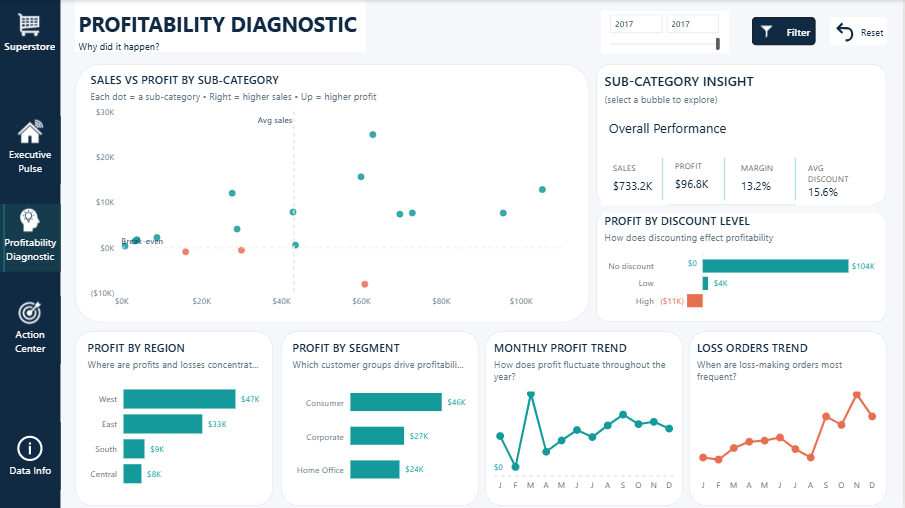

The dashboard page shown, as its layout file describes it:
{"tool":"powerbi","page":{"name":"Profitability Diagnostic","canvas":[1280,720],"ordinal":1},"visuals":[{"type":"shape","box":[0,0,85.7,720.6],"z":0},{"type":"actionButton","box":[0,0,84.3,91.1],"z":1000},{"type":"actionButton","box":[0,164.6,85.7,95.7],"z":2000},{"type":"shape","box":[0,288.9,11.8,95.7],"z":3000},{"type":"actionButton","box":[0,288.9,85.7,95.7],"z":4000},{"type":"actionButton","box":[0,419.9,85.7,95.7],"z":5000},{"type":"actionButton","box":[0,598,85.7,95.7],"z":6000},{"type":"shape","box":[0,288.9,11.8,95.7],"z":7000},{"type":"textbox","title":"PROFITABILITY DIAGNOSTIC","box":[105.8,0,411.5,73.9],"z":8000},{"type":"slicer","fields":{"Values":["Date.Year"]},"box":[851.7,15.1,181.4,58.8],"z":9000},{"type":"actionButton","box":[1066.4,24.3,90,40.4],"z":10000},{"type":"actionButton","box":[1175.7,24.3,80.7,40.4],"z":11000},{"type":"shape","box":[105.8,90.7,729,366.2],"z":12000},{"type":"shape","box":[844.9,90.7,411.5,199.9],"z":13000},{"type":"shape","box":[106.3,469.1,280.6,248],"z":14000},{"type":"shape","box":[398.3,469.1,280.6,248],"z":15000},{"type":"shape","box":[844.9,302.4,411.5,154.5],"z":16000},{"type":"shape","box":[687.4,469.1,280.6,248],"z":17000},{"type":"shape","box":[976.5,469.1,280.6,248],"z":18000},{"type":"scatterChart","title":"SALES VS PROFIT BY SUB-CATEGORY","fields":{"X":["Key measures.Total_sales"],"Y":["Key measures.Total_profit"],"Category":["Superstore_data.Sub_category"]},"box":[122.6,102.5,693.8,342.7],"z":19000},{"type":"cardVisual","title":"SUB-CATEGORY INSIGHT","fields":{"Data":["Key measures.Selected Sub-Category"]},"box":[851.7,102.5,384.7,110.9],"z":20000},{"type":"cardVisual","fields":{"Data":["Key measures.Total_sales"]},"box":[851.7,216.7,94.1,73.9],"z":21000},{"type":"cardVisual","fields":{"Data":["Key measures.Total_profit"]},"box":[939,213.3,94.1,63.8],"z":22000},{"type":"cardVisual","fields":{"Data":["Key measures.Profit_margin"]},"box":[1033.1,216.7,94.1,63.8],"z":23000},{"type":"cardVisual","fields":{"Data":["Key measures.Average_discount"]},"box":[1128.8,216.7,107.5,73.9],"z":24000},{"type":"shape","box":[977.6,223.4,299,60.5],"z":25000},{"type":"shape","box":[876.9,223.4,299,60.5],"z":26000},{"type":"shape","box":[808,223.4,262,60.5],"z":27000},{"type":"clusteredBarChart","title":"PROFIT BY REGION","fields":{"Category":["Superstore_data.Region"],"Y":["Key measures.Total_profit"]},"box":[119.3,482.1,255.3,223.4],"z":28000},{"type":"clusteredBarChart","title":"PROFIT BY DISCOUNT LEVEL","fields":{"Y":["Key measures.Total_profit"],"Category":["Superstore_data.Discount_level"]},"box":[851.7,302.4,393.1,149.5],"z":29000},{"type":"clusteredBarChart","title":"PROFIT BY SEGMENT","fields":{"Y":["Key measures.Total_profit"],"Category":["Superstore_data.Segment"]},"box":[409.9,482.1,257,223.4],"z":30000},{"type":"lineChart","title":"MONTHLY PROFIT TREND","fields":{"Category":["Date.Month Initial"],"Y":["Key measures.Total_profit"]},"box":[700.5,482.1,257,223.4],"z":31000},{"type":"lineChart","title":"LOSS ORDERS TREND","fields":{"Category":["Date.Month Initial"],"Y":["Key measures.Loss_orders"]},"box":[987.7,482.1,257,223.4],"z":32000}]}

Visuals, with their boxes on the page's 1280x720 design canvas (x1, y1, x2, y2). These are canvas units, not pixel positions in the 905x508 screenshot, which may show the page scaled, cropped or inside an application window:
shape: 0, 0, 86, 721
actionButton: 0, 0, 84, 91
actionButton: 0, 165, 86, 260
shape: 0, 289, 12, 385
actionButton: 0, 289, 86, 385
actionButton: 0, 420, 86, 516
actionButton: 0, 598, 86, 694
shape: 0, 289, 12, 385
"PROFITABILITY DIAGNOSTIC" textbox: 106, 0, 517, 74
slicer - Date.Year: 852, 15, 1033, 74
actionButton: 1066, 24, 1156, 65
actionButton: 1176, 24, 1256, 65
shape: 106, 91, 835, 457
shape: 845, 91, 1256, 291
shape: 106, 469, 387, 717
shape: 398, 469, 679, 717
shape: 845, 302, 1256, 457
shape: 687, 469, 968, 717
shape: 976, 469, 1257, 717
"SALES VS PROFIT BY SUB-CATEGORY" scatterChart: 123, 102, 816, 445
"SUB-CATEGORY INSIGHT" cardVisual: 852, 102, 1236, 213
cardVisual - Key measures.Total_sales: 852, 217, 946, 291
cardVisual - Key measures.Total_profit: 939, 213, 1033, 277
cardVisual - Key measures.Profit_margin: 1033, 217, 1127, 280
cardVisual - Key measures.Average_discount: 1129, 217, 1236, 291
shape: 978, 223, 1277, 284
shape: 877, 223, 1176, 284
shape: 808, 223, 1070, 284
"PROFIT BY REGION" clusteredBarChart: 119, 482, 375, 706
"PROFIT BY DISCOUNT LEVEL" clusteredBarChart: 852, 302, 1245, 452
"PROFIT BY SEGMENT" clusteredBarChart: 410, 482, 667, 706
"MONTHLY PROFIT TREND" lineChart: 700, 482, 958, 706
"LOSS ORDERS TREND" lineChart: 988, 482, 1245, 706
